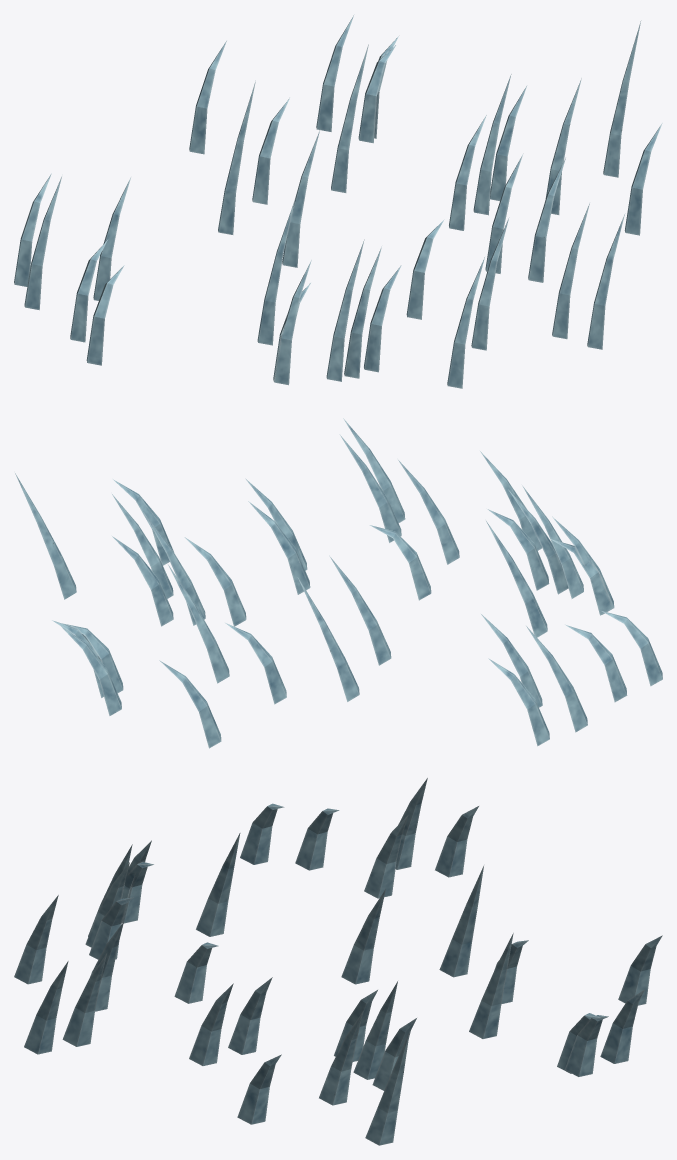
File: underworld-ground-frozen-rime-fan.glb
3 renders of one model, top to bottom at view 1: azimuth 30°, elevation 25°; view 2: azimuth 150°, elevation 25°; view 3: azimuth 270°, elevation 25°, orthographic. The views are drawn at different scales.
Parts seen in each view (by area): view 1: mineral-fragments; view 2: mineral-fragments; view 3: mineral-fragments.
Part boxes in pixels (box(x1,y1,x2,y2)): mineral-fragments: box(14, 14, 662, 388); mineral-fragments: box(15, 418, 662, 748); mineral-fragments: box(14, 778, 662, 1145).
Bounding box in the file's own units: 3.29 × 0.6776 × 2.95.
1 material, 1 textured.
